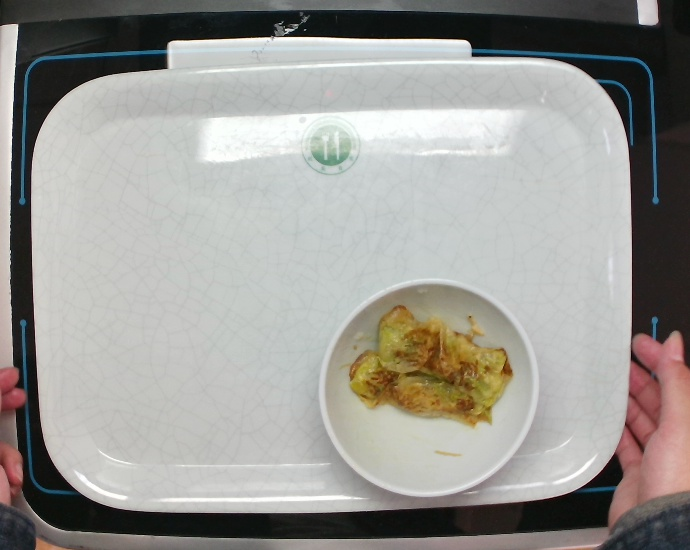JYsf-Fan_Wan: (315, 276, 540, 499)
